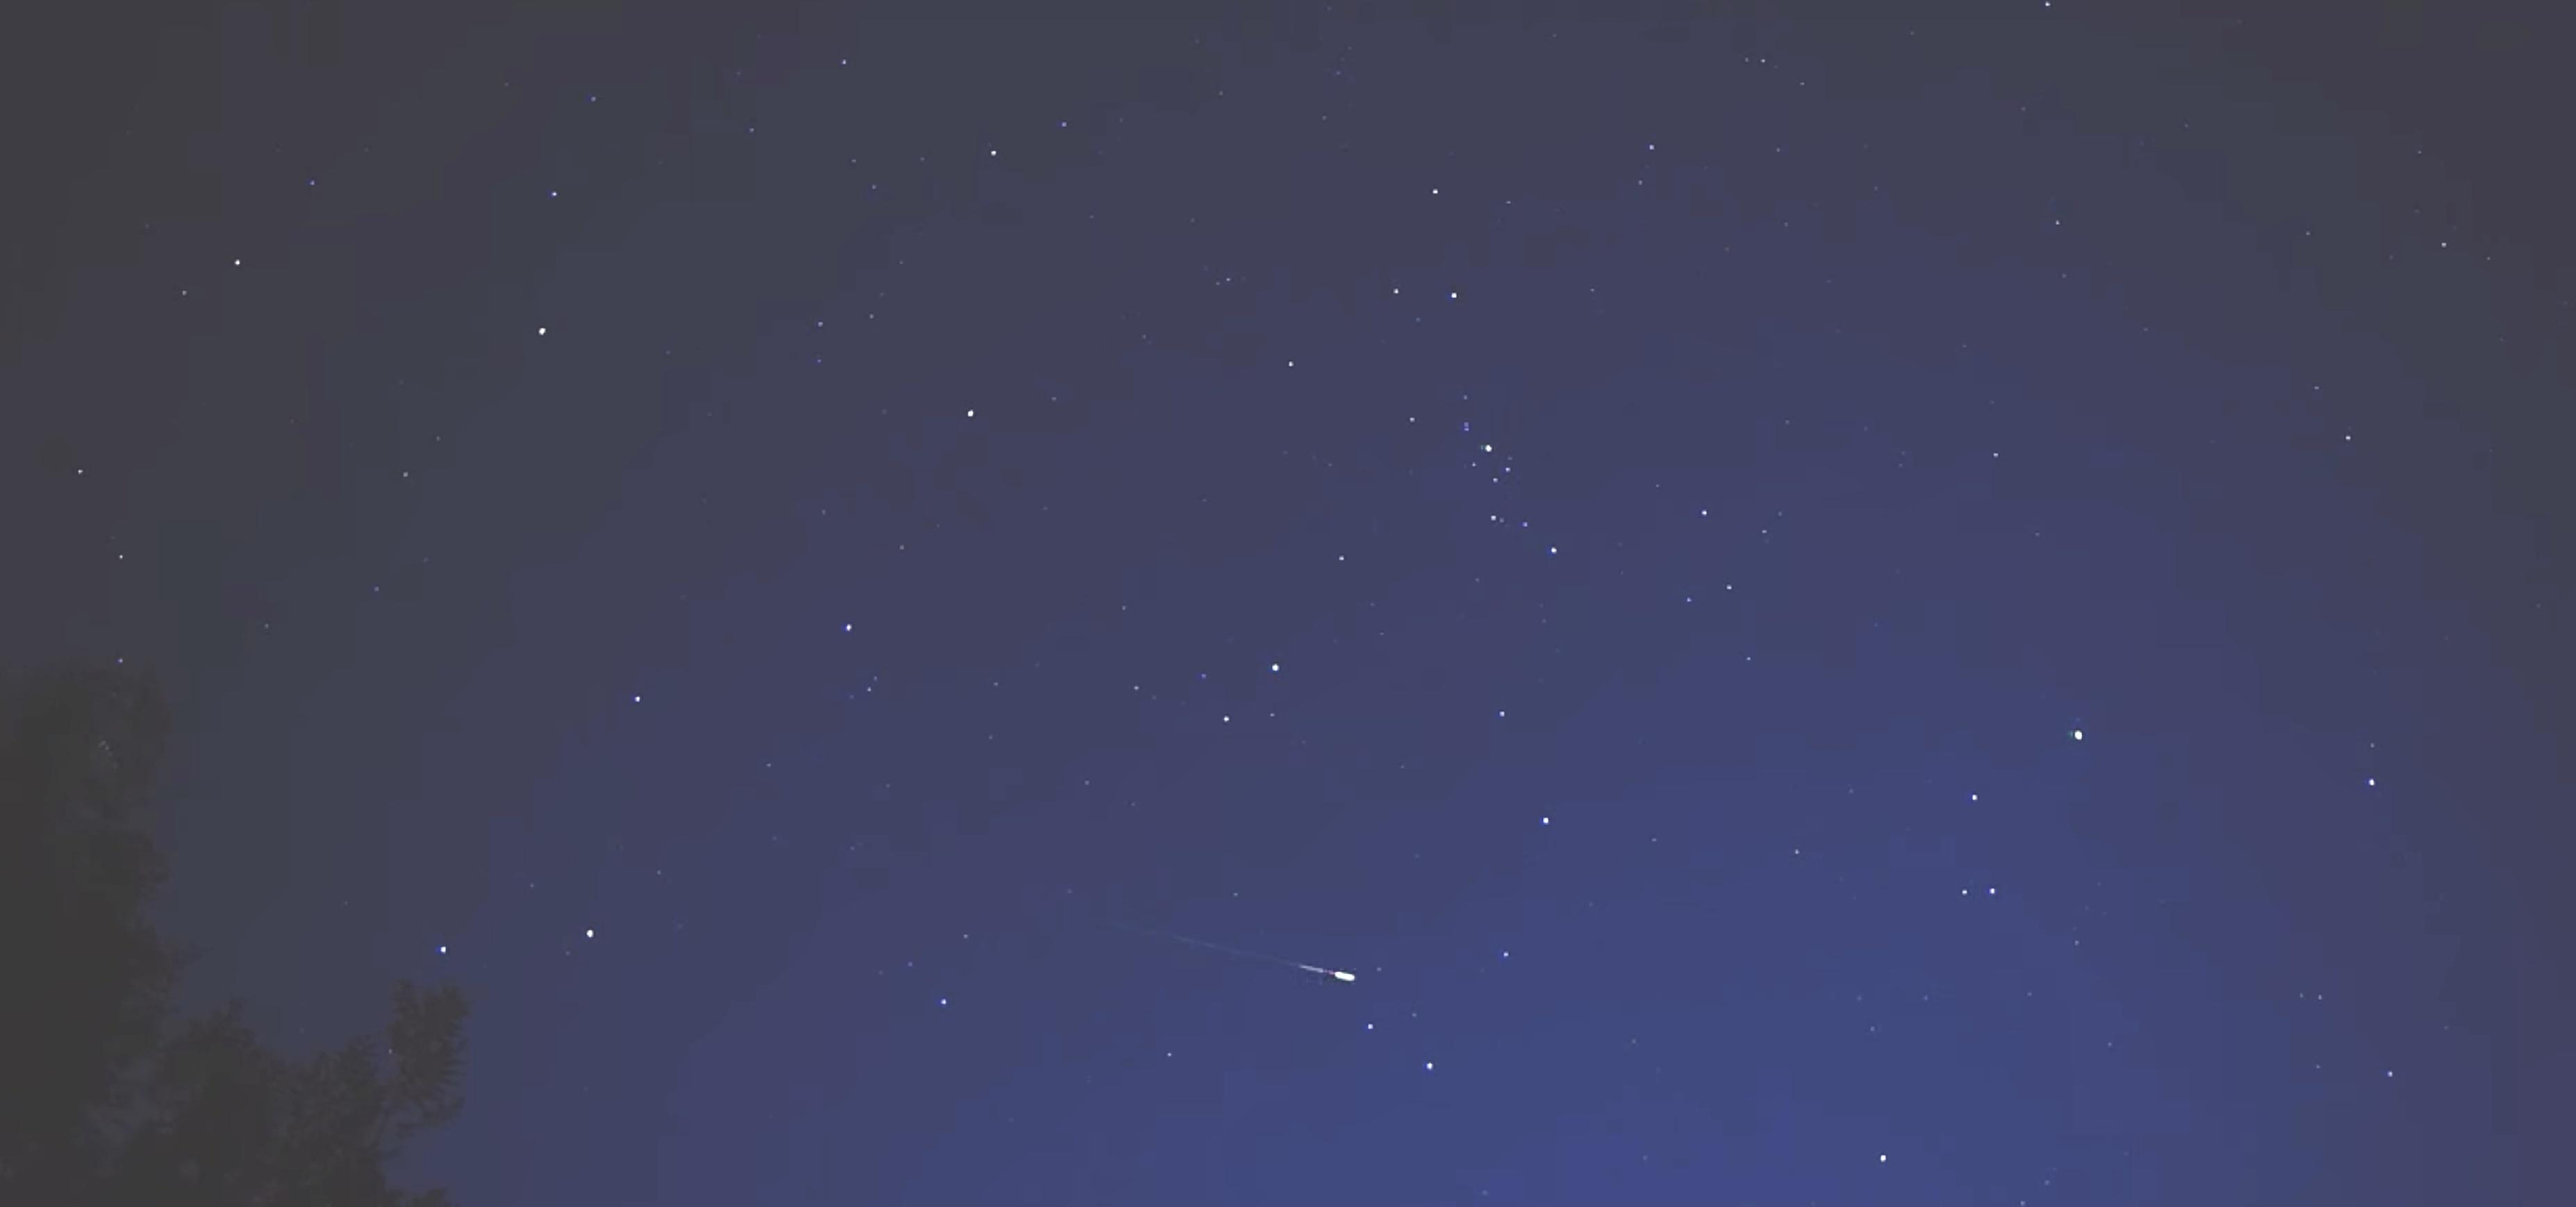meteorite: (1119, 910, 1391, 995)
